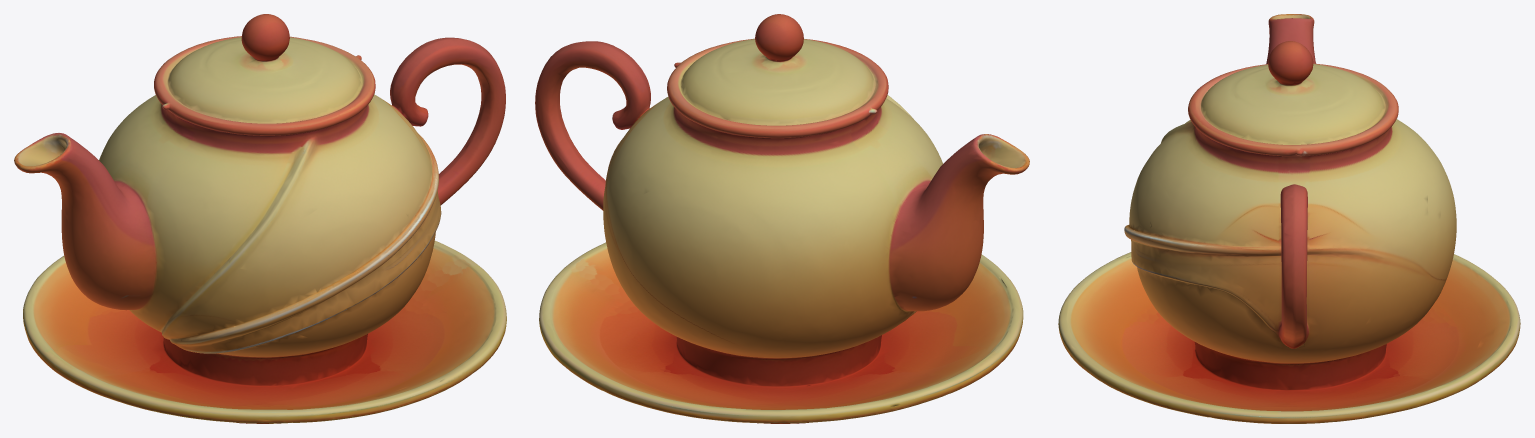
Rendered from furniture-Biz6uY1L.glb.
3 renders of one model, left to right at view 1: azimuth 30°, elevation 25°; view 2: azimuth 150°, elevation 25°; view 3: azimuth 270°, elevation 25°, orthographic. The views are drawn at different scales.
Parts seen in each view (by area): view 1: texture_v128_cfg.001; view 2: texture_v128_cfg.001; view 3: texture_v128_cfg.001.
Part boxes in pixels (x1,y1,x2,y2): texture_v128_cfg.001: (14, 14, 506, 423); texture_v128_cfg.001: (535, 14, 1029, 423); texture_v128_cfg.001: (1058, 14, 1520, 423).
Bounding box in the file's own units: 0.972 × 0.669 × 0.8516.
Materials: 1 (1 with a texture image).
